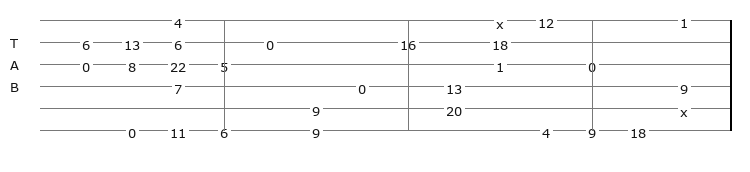0: (82, 58, 94, 71), (128, 124, 140, 137), (266, 36, 278, 49), (358, 80, 370, 93), (588, 58, 600, 71)
1: (496, 58, 508, 71), (680, 14, 692, 27)
11: (170, 124, 190, 137)
12: (538, 14, 558, 27)
13: (124, 36, 144, 49), (446, 80, 466, 93)
16: (400, 36, 420, 49)
18: (492, 36, 512, 49), (630, 124, 650, 137)
20: (446, 102, 466, 115)
22: (170, 58, 190, 71)
4: (174, 14, 186, 27), (542, 124, 554, 137)
5: (220, 58, 232, 71)
6: (82, 36, 94, 49), (174, 36, 186, 49), (220, 124, 232, 137)
7: (174, 80, 186, 93)
8: (128, 58, 140, 71)
9: (312, 102, 324, 115), (312, 124, 324, 137), (588, 124, 600, 137), (680, 80, 692, 93)
x: (496, 15, 508, 26), (680, 103, 692, 114)
